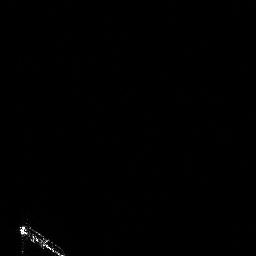ship: (19, 223, 66, 256)
